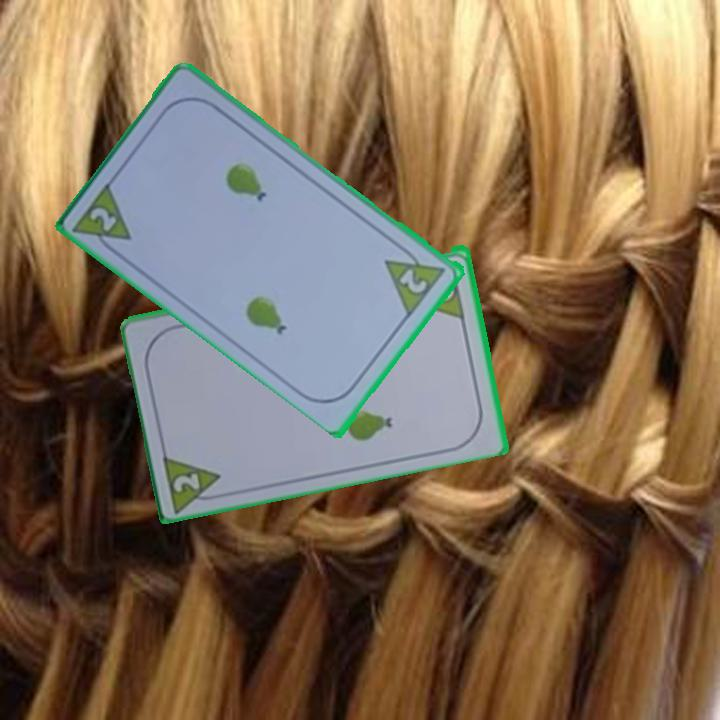2p: (70, 177, 136, 260), (381, 240, 450, 318), (169, 468, 204, 495)
